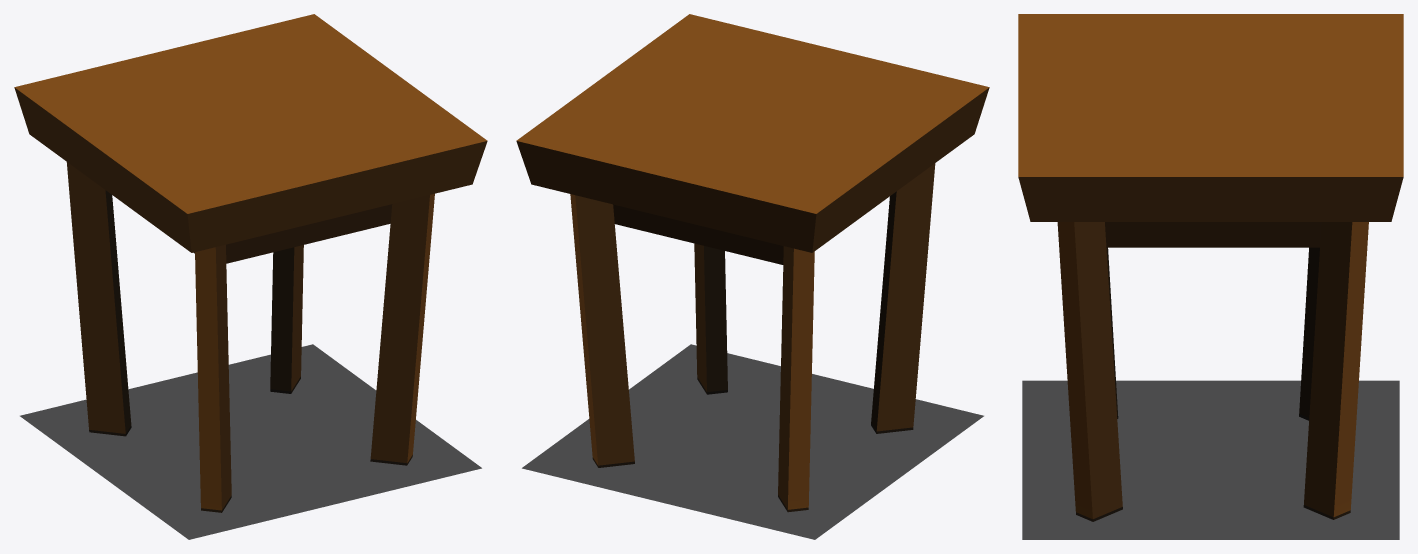
File: small_table_02.fbx
3 views of the same model, side by side, from view 1: azimuth 30°, elevation 25°; view 2: azimuth 150°, elevation 25°; view 3: azimuth 270°, elevation 25° (orthographic). The views are drawn at different scales.
Visible parts, largest first — view 1: small_table_02; view 2: small_table_02; view 3: small_table_02.
Part boxes in pixels (x1,y1,x2,y2): small_table_02: (14,14,487,539); small_table_02: (516,14,989,539); small_table_02: (1018,14,1403,539).
Size of the model in its own units: 63.84 by 67.18 by 63.84.
Materials: 2 (1 with a texture image).
